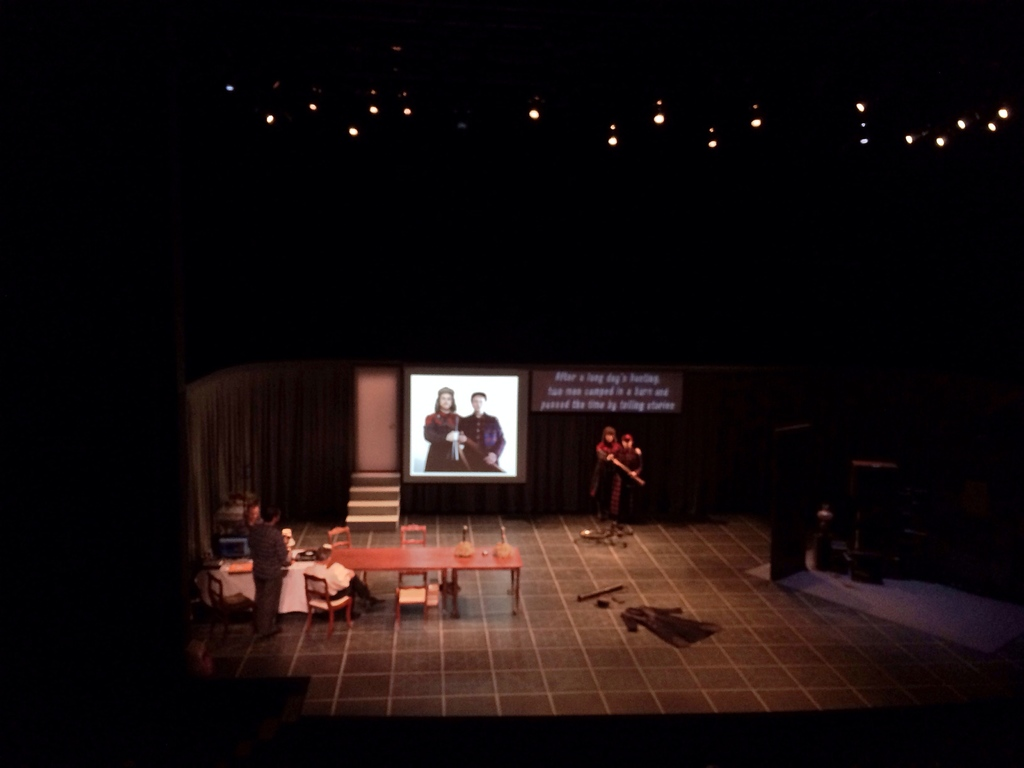Person: (242, 497, 288, 637), (303, 545, 386, 605), (590, 422, 644, 498), (610, 431, 643, 540)
